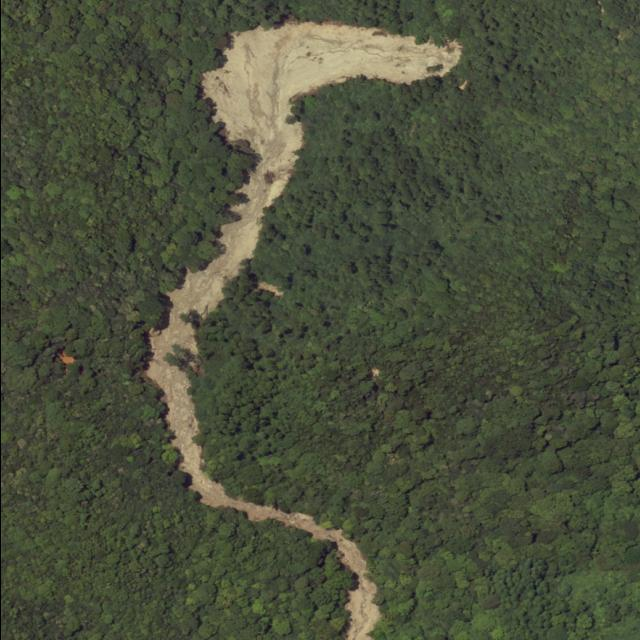landslide: (145, 21, 460, 640)
